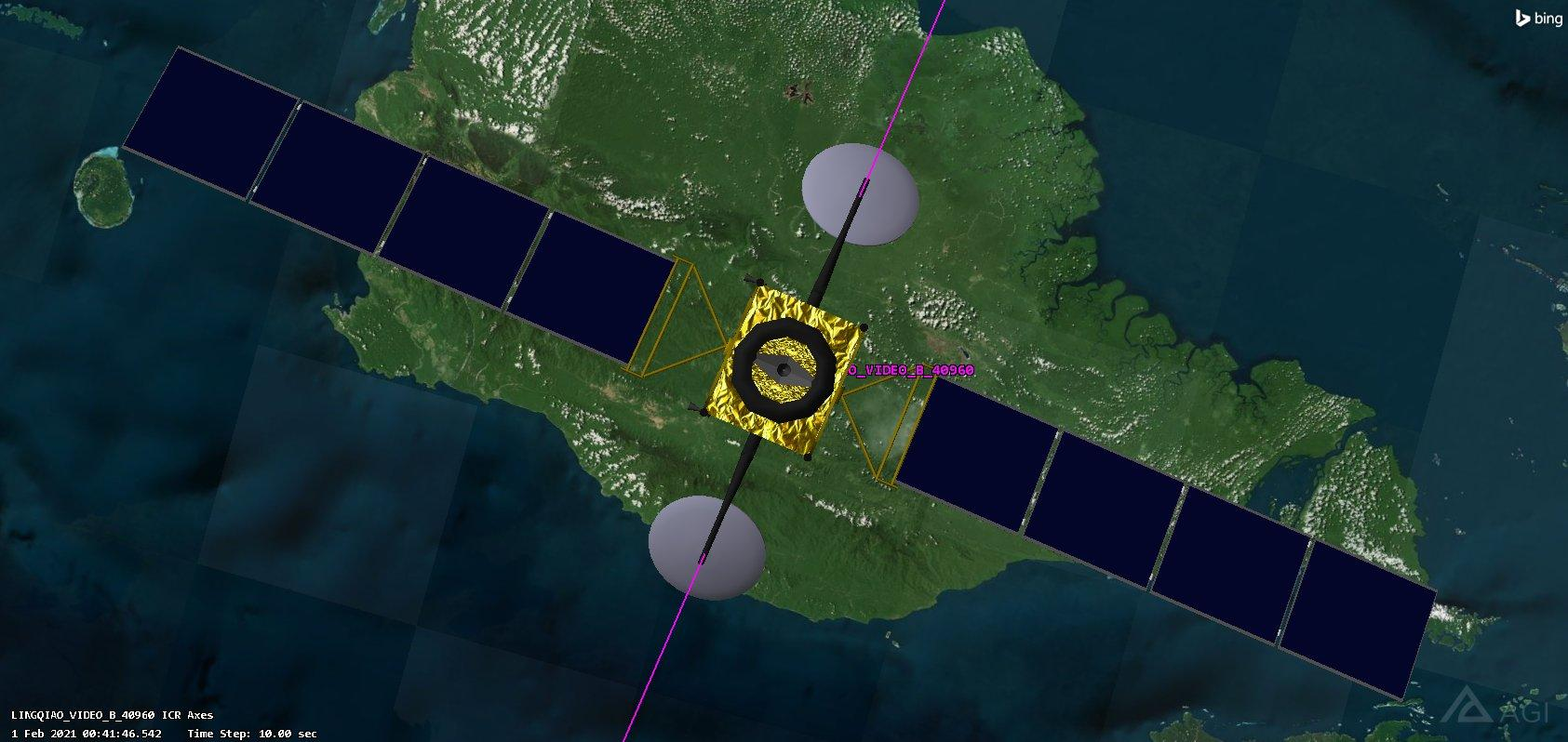antenna: (803, 142, 922, 246), (650, 496, 766, 602)
body: (699, 278, 868, 455)
solar: (116, 43, 679, 364), (891, 373, 1437, 702)
thruster: (775, 359, 794, 381), (686, 401, 702, 412), (743, 273, 757, 284), (859, 323, 869, 332), (803, 452, 811, 462), (757, 278, 765, 286), (700, 408, 707, 417)
